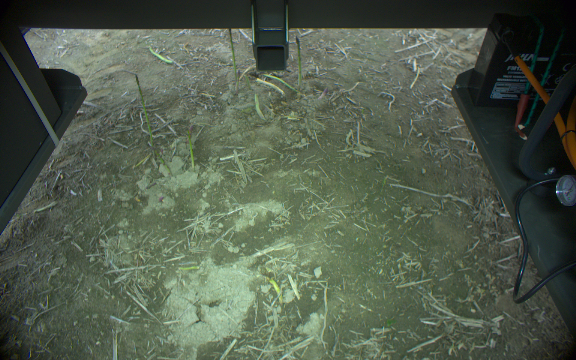aspa: (131, 74, 160, 160), (261, 72, 298, 94), (293, 35, 305, 95), (146, 44, 176, 67), (254, 77, 285, 95), (228, 29, 237, 85), (252, 92, 266, 124), (188, 126, 196, 168)
